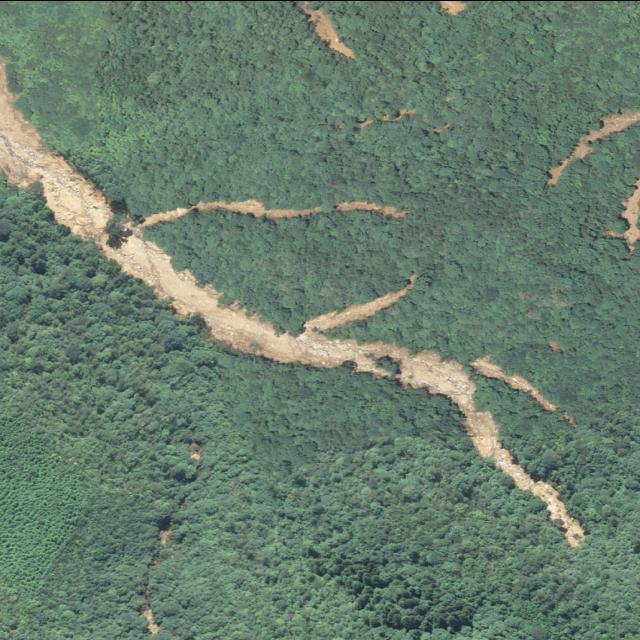landslide: (0, 68, 586, 546), (549, 108, 640, 184), (470, 354, 560, 411), (606, 177, 640, 256), (186, 198, 263, 216), (335, 199, 411, 216), (142, 208, 184, 223), (279, 208, 290, 216), (266, 209, 278, 216)
